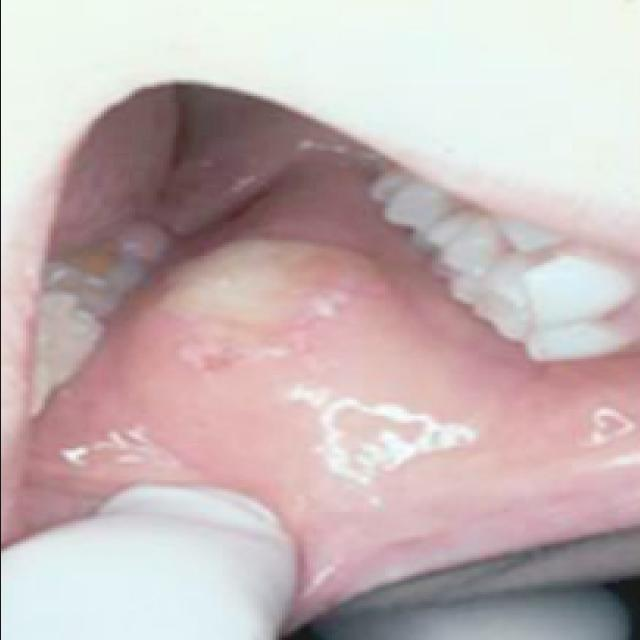Cancer: (147, 198, 386, 358)
